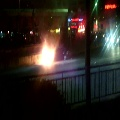fire: (36, 44, 55, 67)
